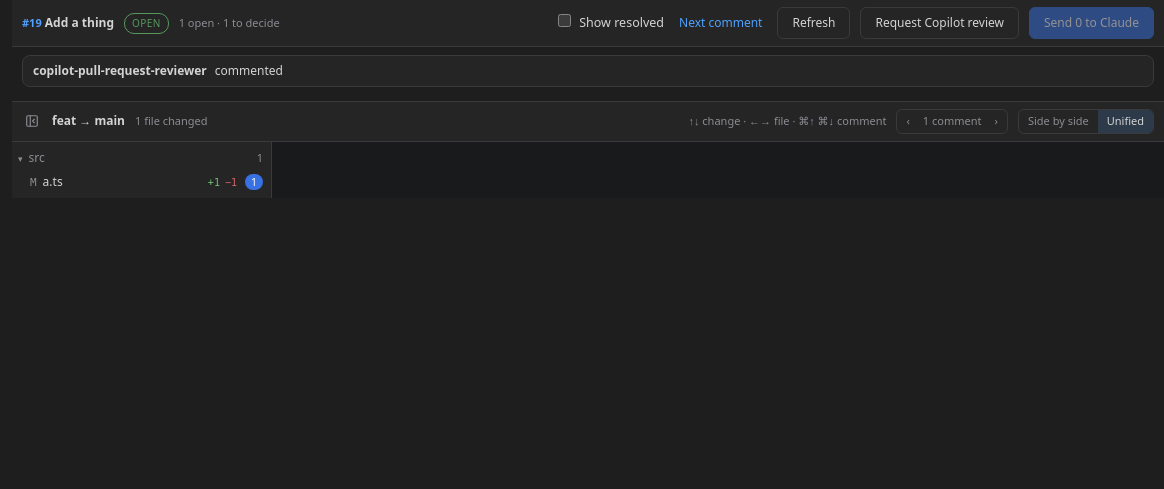
Test: Copilot › shows the reviews' own words above the diff
This screenshot has width=1164, height=489.
Click the text "copilot-pull-request-reviewer" at (120, 71), box [33,62,207,80]
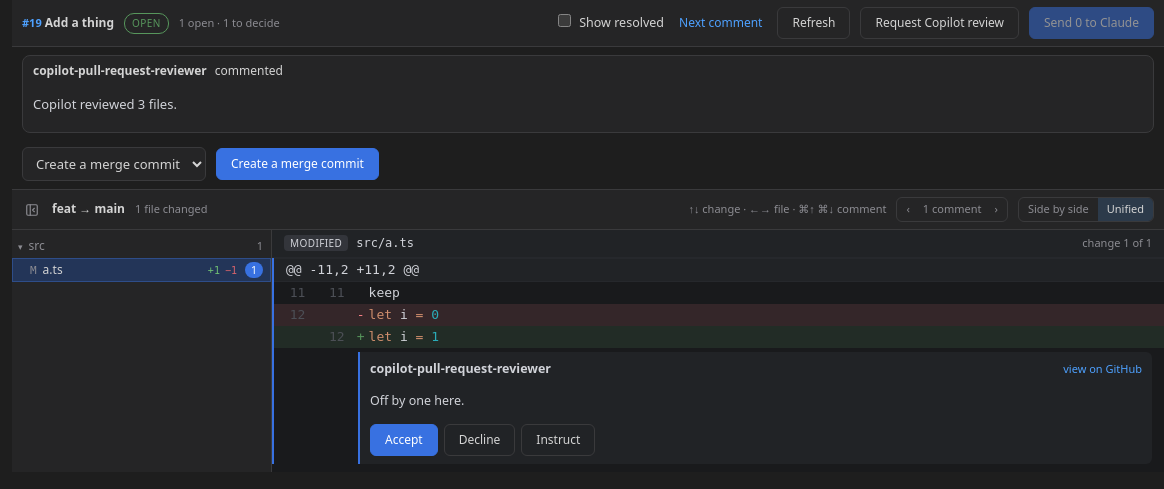
Now the text "Copilot reviewed 3 files." is shown, box [33,95,177,113]
